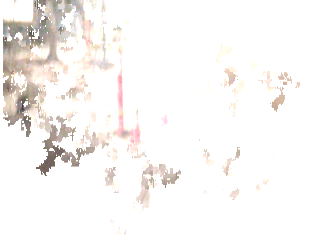Obstacle: (95, 10, 169, 172)
